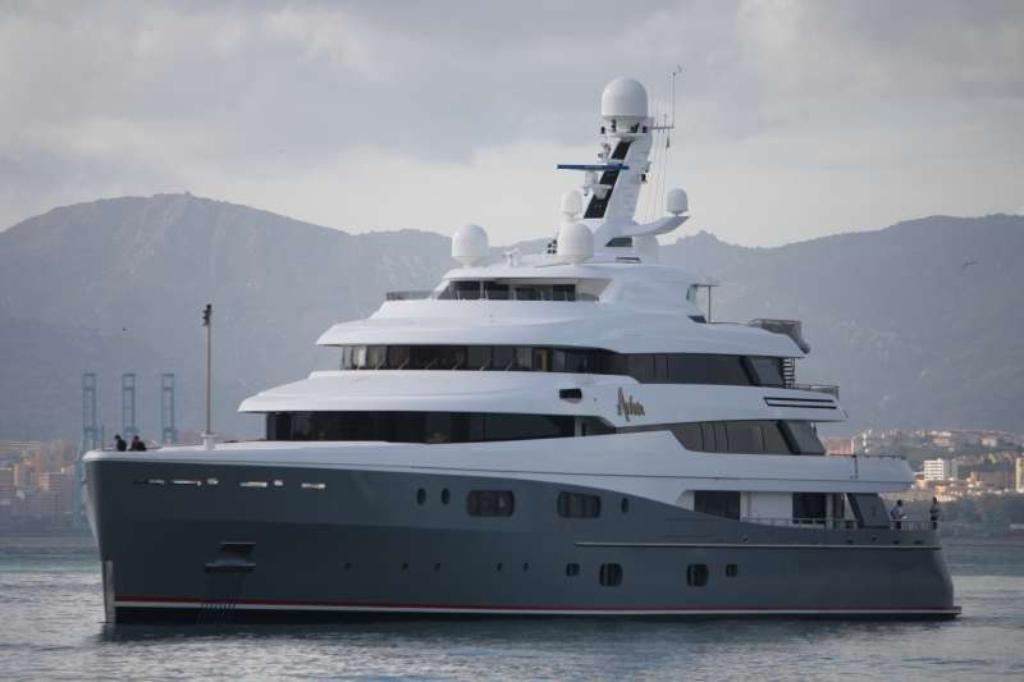PassengerShip: (66, 75, 974, 627)
